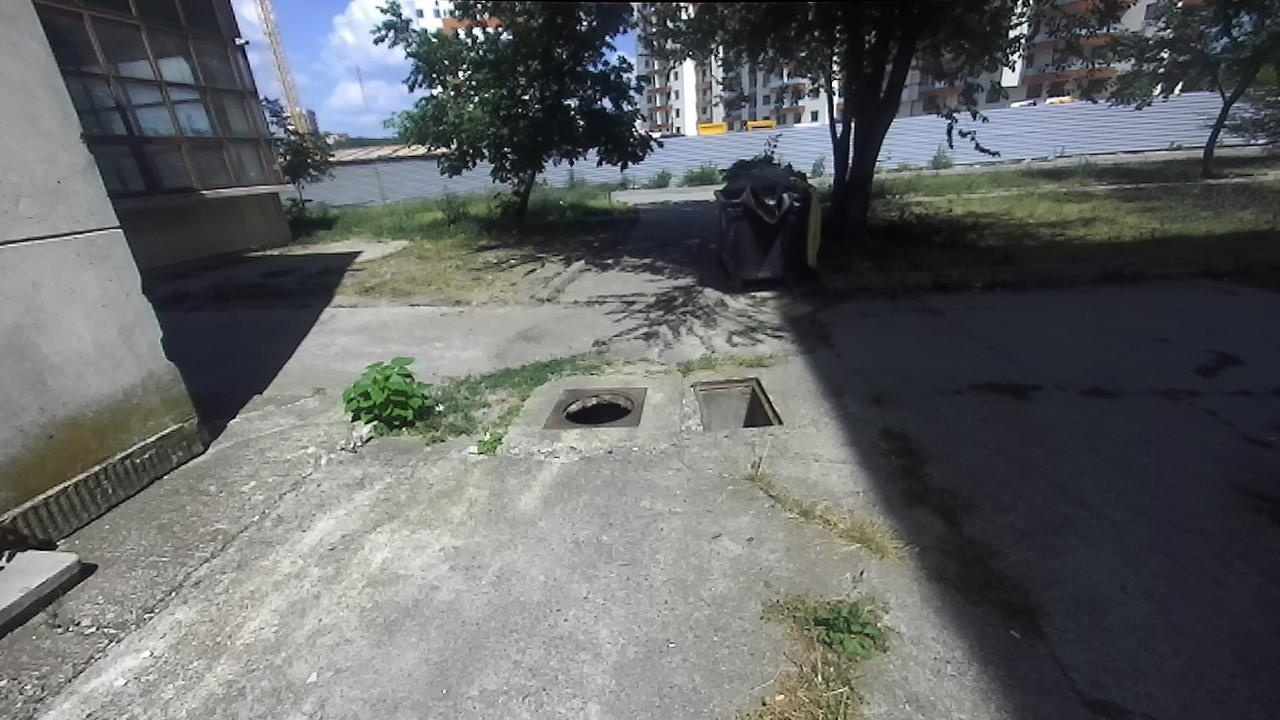drain: (687, 376, 784, 434), (556, 385, 641, 424)
